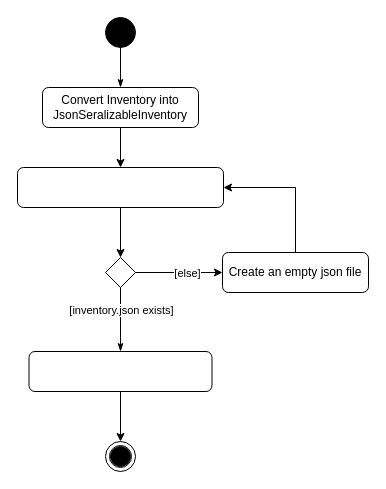
Image size: 386x489. Some labels were removed from this diagram. Here are the shapes that lost their labels. From the top down, the centre of each, then its label:
At point (120, 187): "Attempt to save JsonSerializableInventory to json file".
At point (120, 371): "Write JsonSeralizableInventory into json file".
